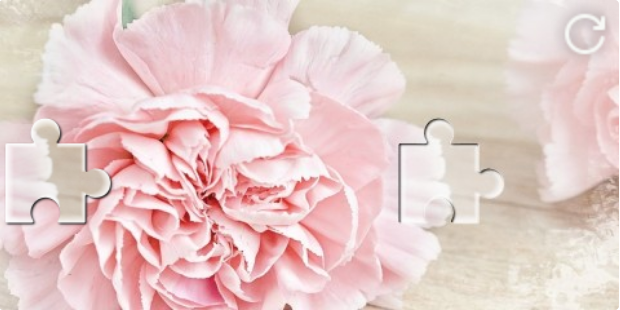target: (399, 119, 504, 224)
